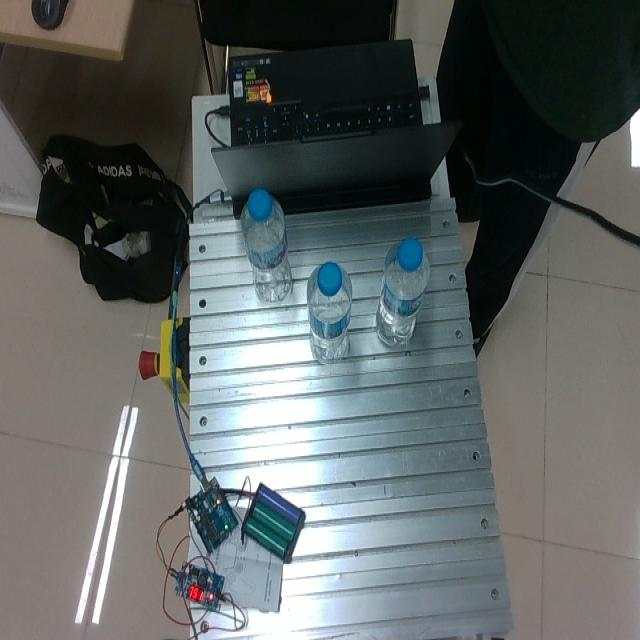lavie: (375, 236, 429, 348), (240, 189, 291, 303), (306, 261, 353, 363)
